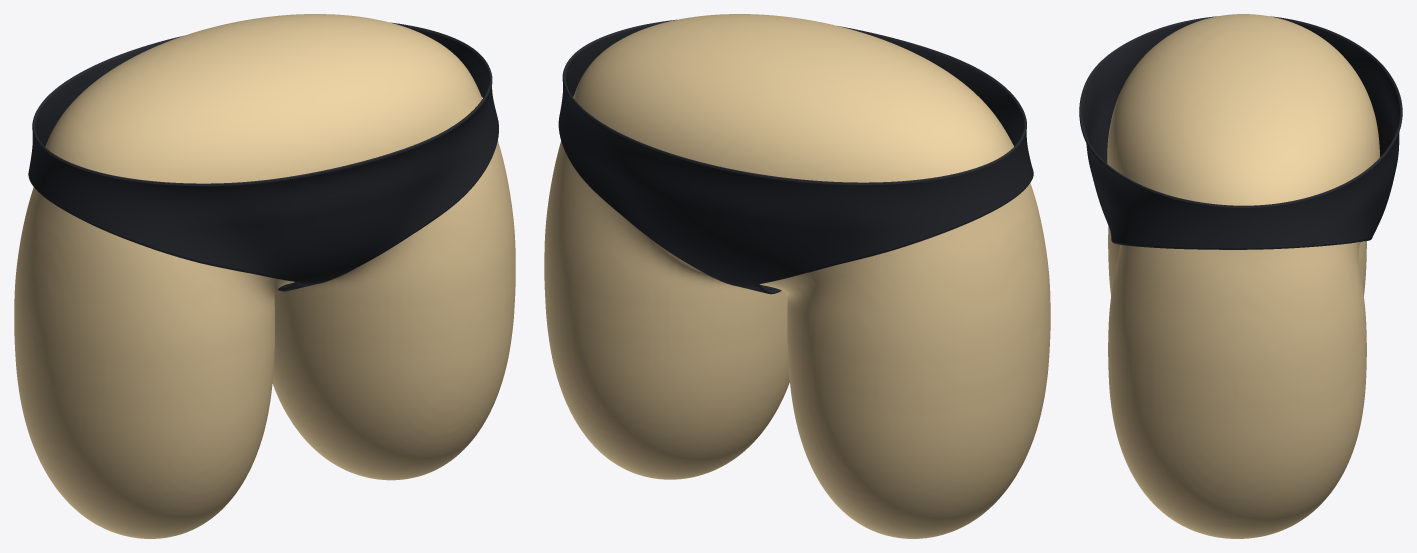
Rendered from Feminine-bottom-bikini.glb.
3 renders of one model, left to right at view 1: azimuth 30°, elevation 25°; view 2: azimuth 150°, elevation 25°; view 3: azimuth 270°, elevation 25°, orthographic. The views are drawn at different scales.
Parts seen in each view (by area): view 1: Skin / bikini lower body, Bottom / bikini connected shell, Bottom / bikini seated edge 2 export; view 2: Skin / bikini lower body, Bottom / bikini connected shell, Bottom / bikini seated edge 2 export; view 3: Skin / bikini lower body, Bottom / bikini connected shell, Bottom / bikini seated edge 2 export.
Part boxes in pixels (bbox=[...]): Skin / bikini lower body: bbox=[14, 14, 515, 538]; Bottom / bikini connected shell: bbox=[28, 25, 498, 291]; Bottom / bikini seated edge 2 export: bbox=[33, 22, 491, 184]; Skin / bikini lower body: bbox=[544, 14, 1050, 538]; Bottom / bikini connected shell: bbox=[558, 22, 1033, 294]; Bottom / bikini seated edge 2 export: bbox=[563, 19, 1026, 183]; Skin / bikini lower body: bbox=[1107, 14, 1379, 538]; Bottom / bikini connected shell: bbox=[1079, 18, 1402, 249]; Bottom / bikini seated edge 2 export: bbox=[1079, 16, 1402, 206].
Bounding box in the file's own units: 0.6361 × 0.5993 × 0.4179.
